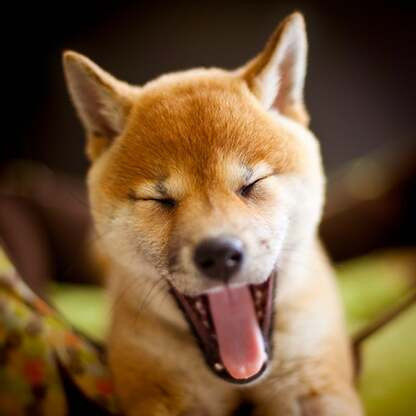shiba: (57, 9, 368, 416)
